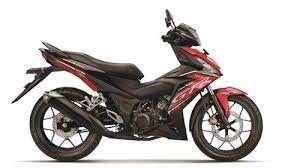motor: (19, 22, 264, 163)
